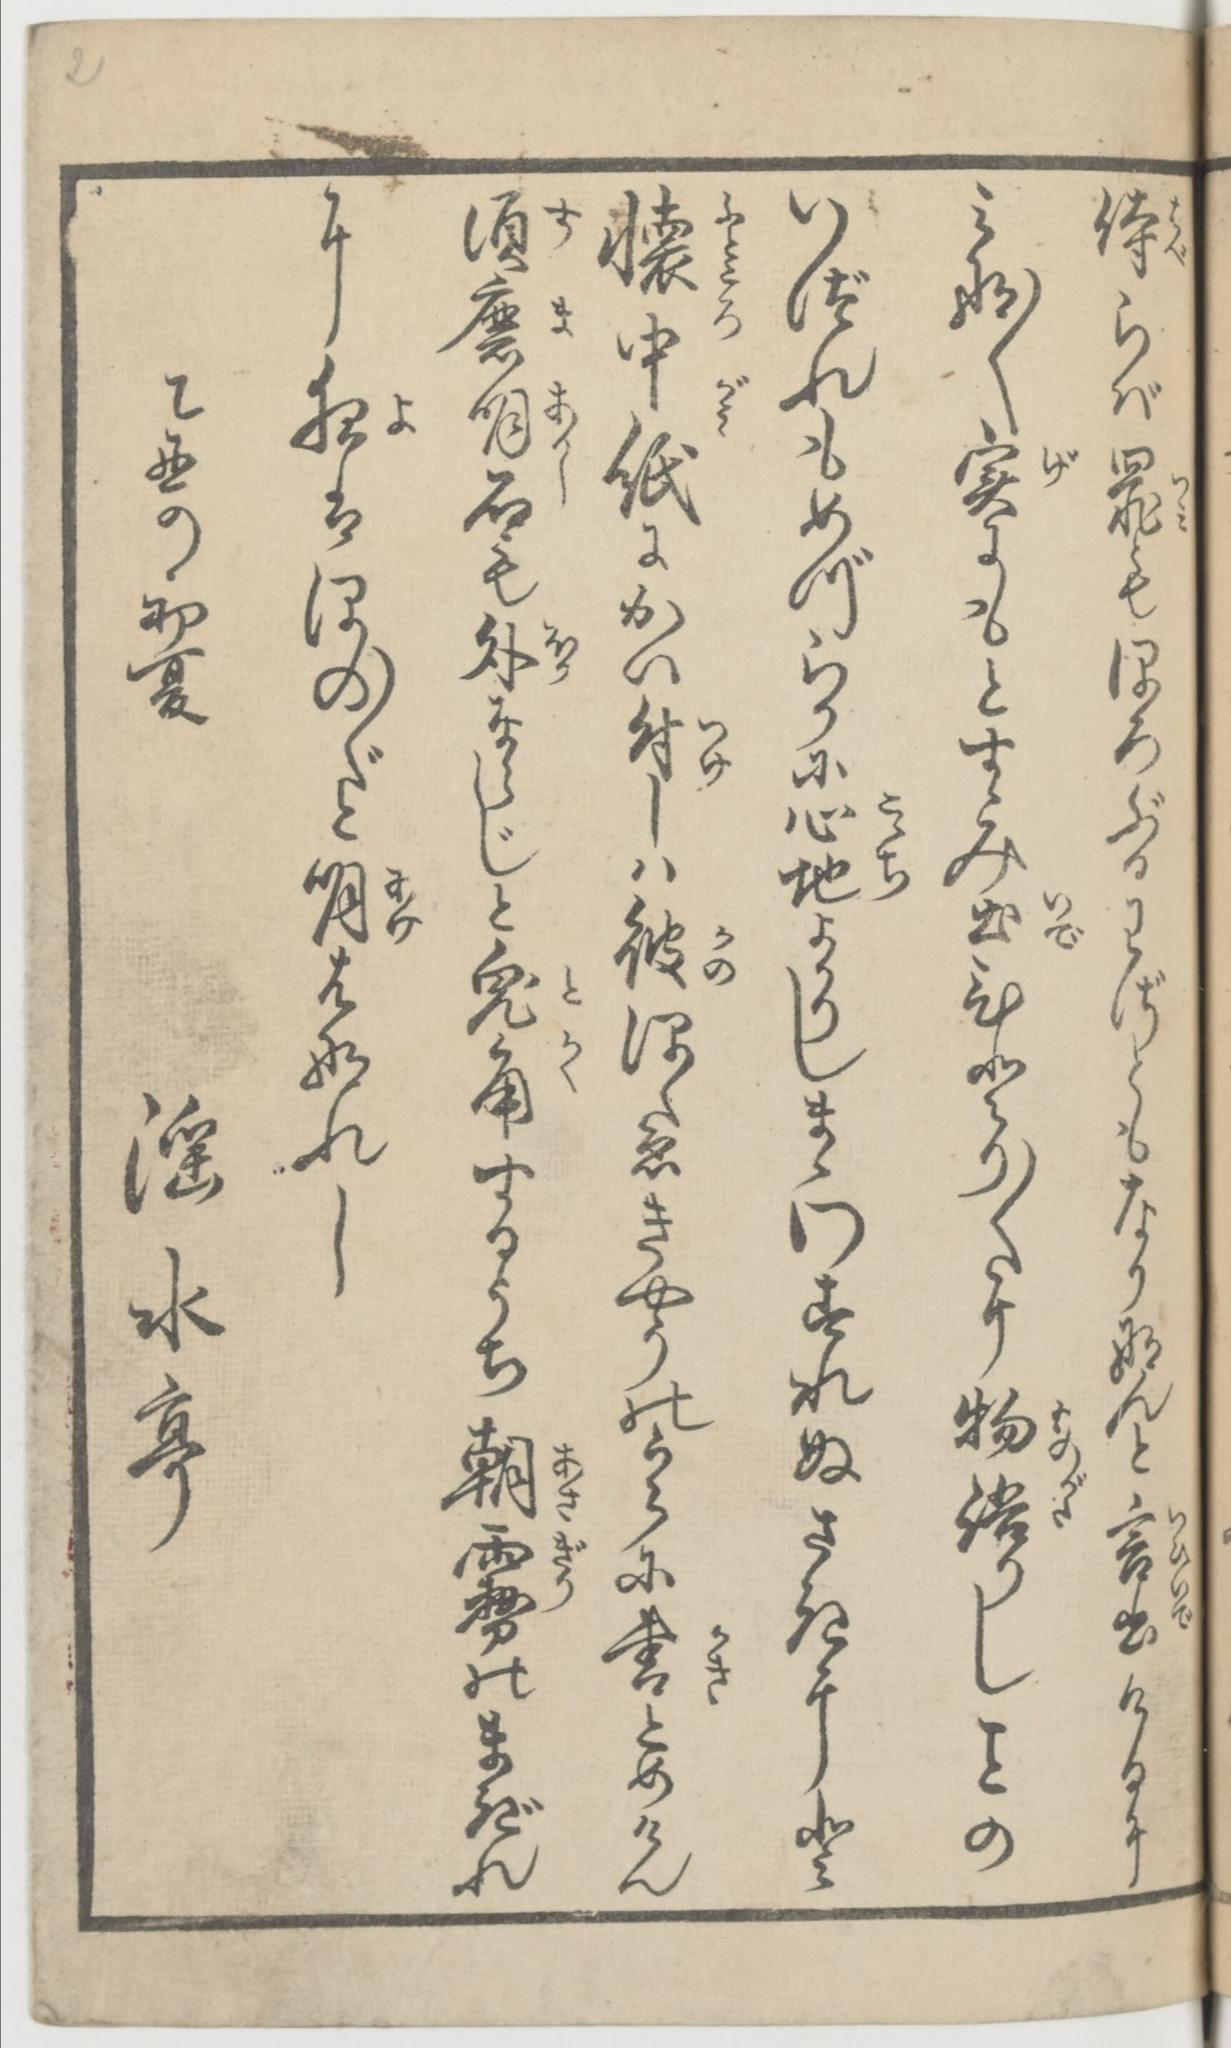MainZone-Character: (592, 181, 762, 347), (602, 304, 760, 455), (272, 357, 434, 475), (458, 372, 580, 516), (450, 1524, 591, 1650), (440, 1415, 591, 1527), (428, 272, 583, 372), (947, 421, 1094, 527), (594, 1603, 743, 1706), (608, 897, 744, 998), (946, 1377, 1089, 1467), (291, 854, 430, 946), (613, 693, 741, 793), (1088, 174, 1199, 288), (463, 1030, 588, 1129), (453, 939, 589, 1028), (453, 610, 588, 698), (450, 184, 583, 272), (946, 1472, 1086, 1554), (953, 889, 1094, 960), (1105, 445, 1197, 547), (773, 850, 925, 911), (773, 791, 923, 850), (1102, 1492, 1194, 1583), (1102, 1580, 1199, 1657)
MainZone-Ruby: (712, 189, 746, 338), (544, 376, 579, 508), (380, 857, 430, 948), (535, 613, 582, 692), (544, 1529, 586, 1614), (1042, 1387, 1085, 1469), (379, 373, 427, 443), (1038, 886, 1088, 954), (697, 917, 741, 990), (545, 1438, 585, 1518), (699, 1622, 737, 1704), (692, 715, 735, 786), (712, 363, 747, 439), (1048, 1470, 1089, 1535), (1035, 434, 1083, 489), (870, 850, 918, 903), (870, 791, 912, 846), (1164, 187, 1190, 271), (553, 1027, 585, 1093), (1165, 1499, 1192, 1575), (548, 195, 580, 255), (1167, 470, 1193, 534), (553, 957, 583, 1011), (1167, 1581, 1197, 1634), (545, 288, 576, 341)
